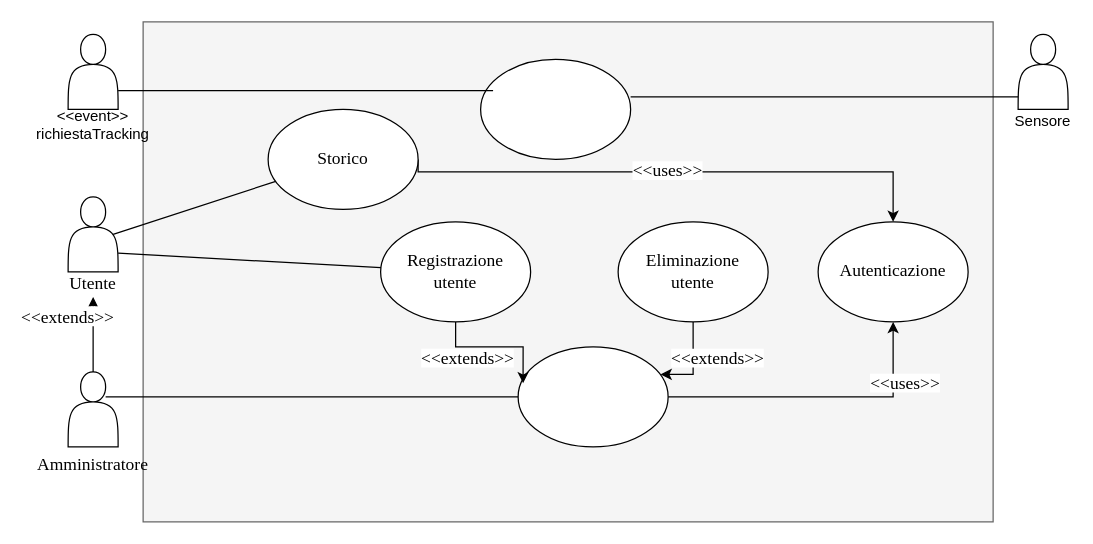
This 1093x544 diagram has some shape labels left out. The centre of each missing label's shape, as x and y in pixels:
Gestione evento: pixel 555 108
GestioneUtente: pixel 592 396
